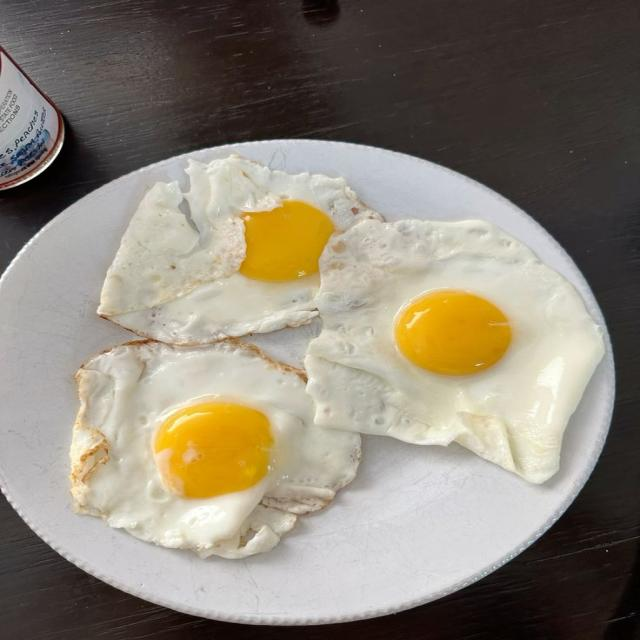fryed egg: (306, 220, 603, 482), (71, 340, 359, 558), (99, 156, 379, 343)
